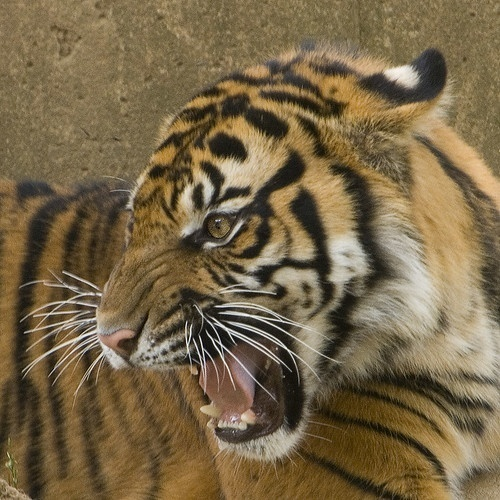tigre: (1, 41, 497, 497)
